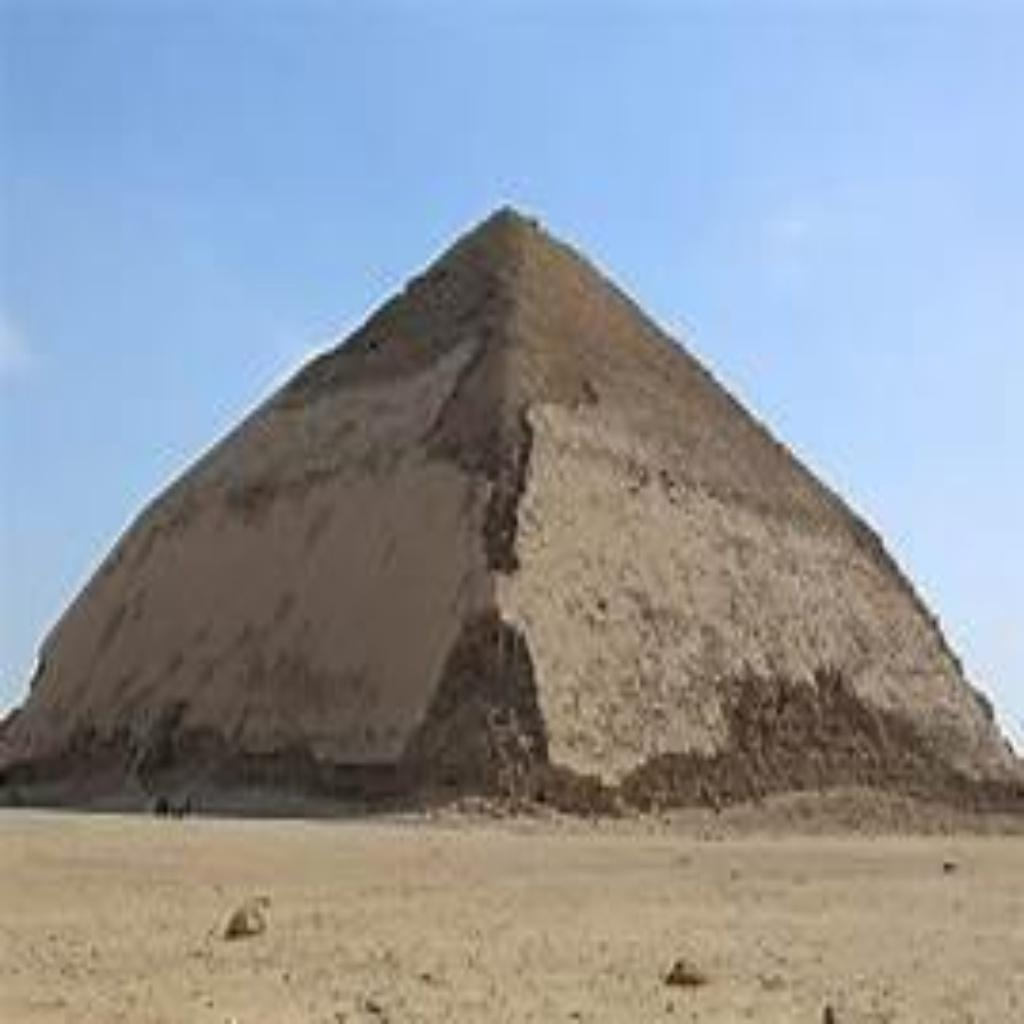Bent Pyramid of King Sneferu: (0, 194, 1016, 819)
